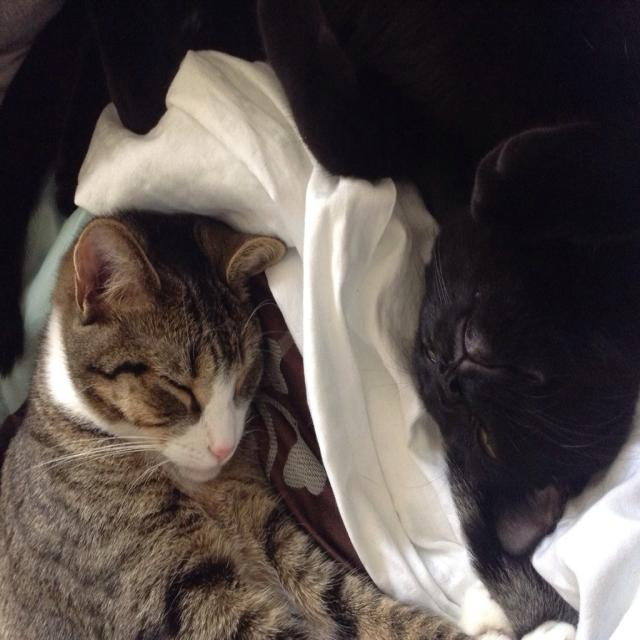Cat: (0, 0, 639, 556), (0, 207, 576, 638)
